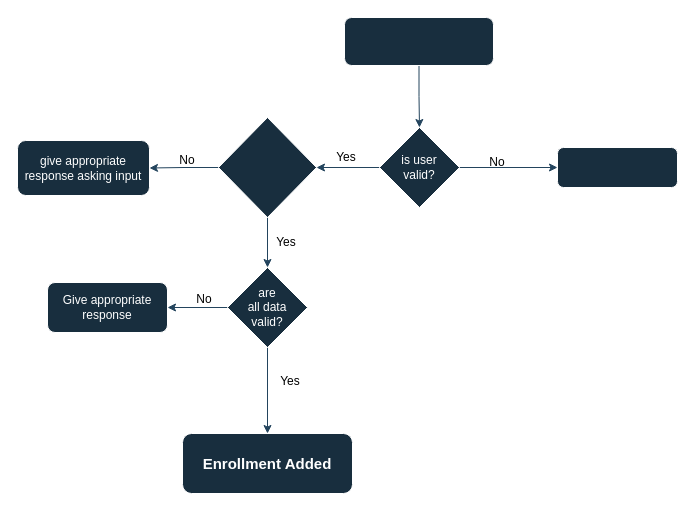
This 695x511 diagram has some shape labels left out. The shapes that lost their labels are listed below. From the top down, each one's centre as x and y in pixels, then its label:
At pixel 419 41: "Add Enrollment".
At pixel 267 167: "all required input given?".
At pixel 617 167: "Invalid User".
